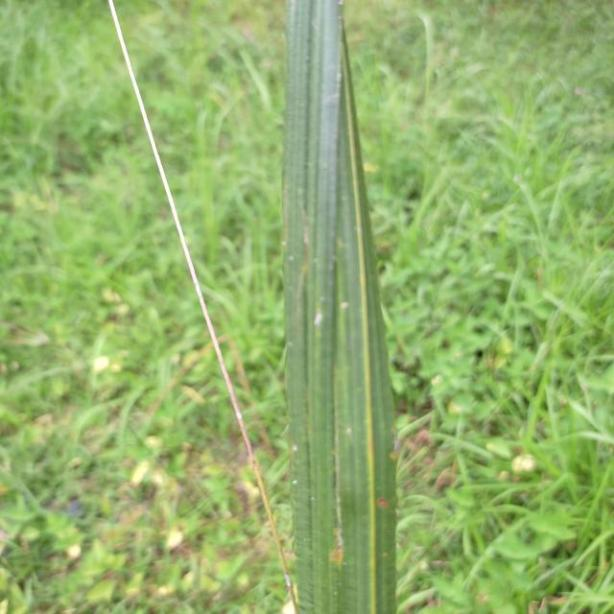Boron: (281, 1, 401, 614)
